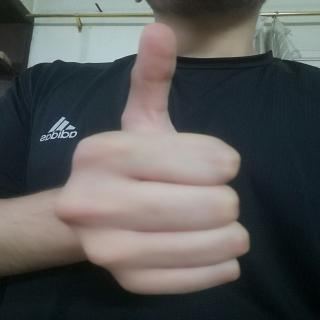ALIF: (41, 12, 262, 301)
